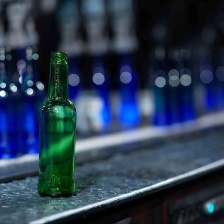bottle: (35, 50, 79, 202)
